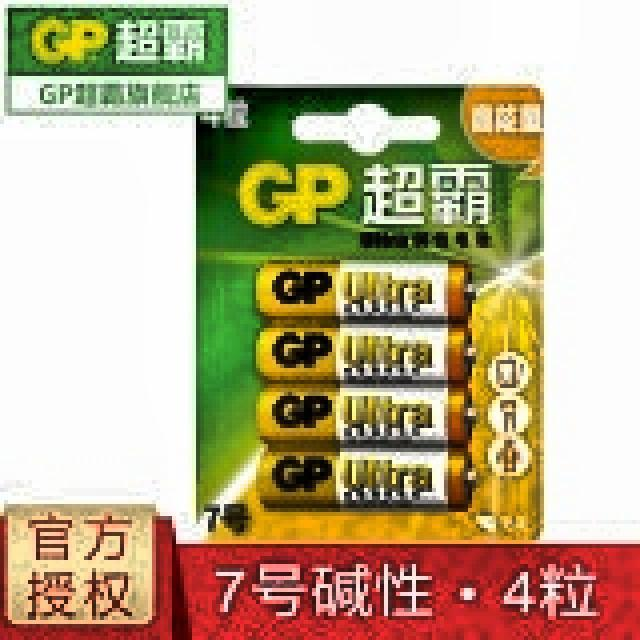battery: (256, 261, 469, 508)
